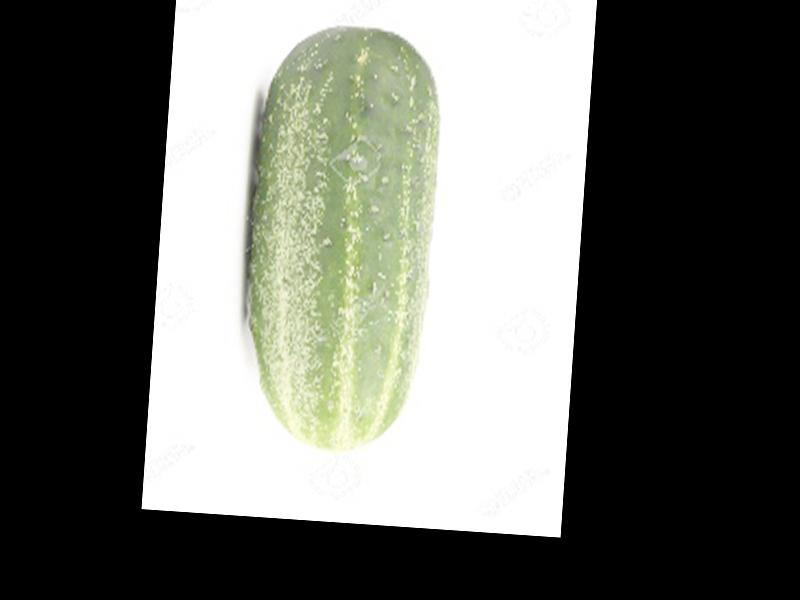Cucumber: (234, 17, 446, 453)
